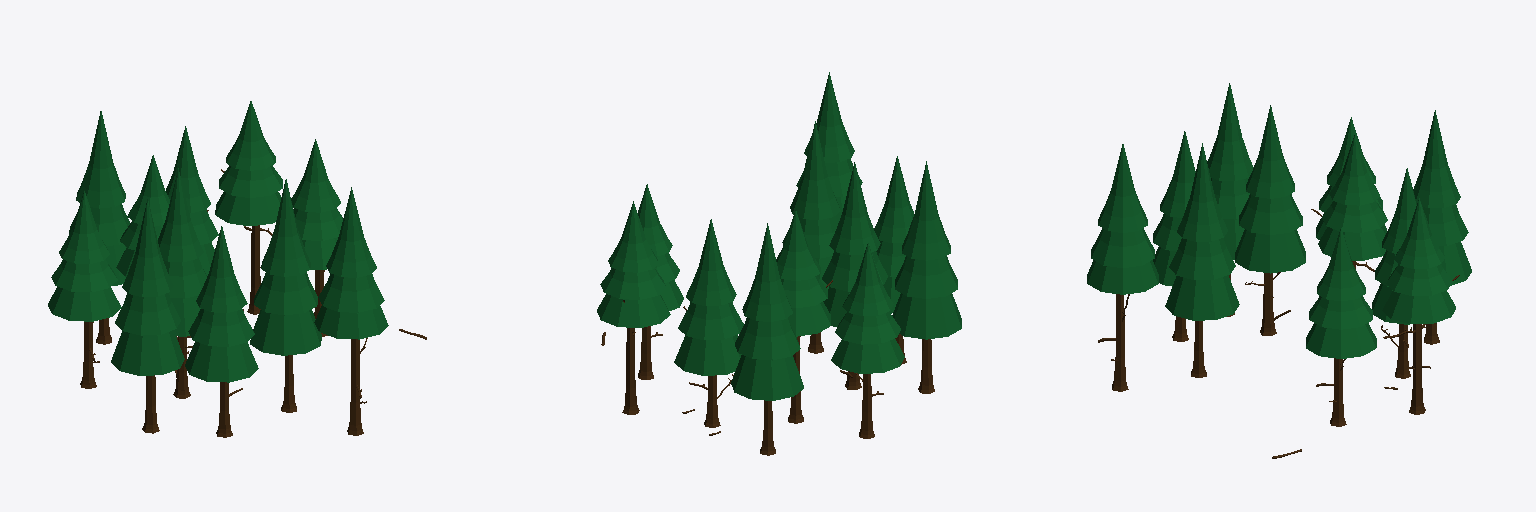
The model's file is PineTree.obj.
3 renders of one model, left to right at view 1: azimuth 30°, elevation 25°; view 2: azimuth 150°, elevation 25°; view 3: azimuth 270°, elevation 25°, orthographic.
Parts seen in each view (by area): view 1: polySurface130, polySurface119, polySurface132, polySurface121, polySurface100, polySurface104, polySurface128, polySurface118, polySurface106, polySurface120, polySurface131, polySurface127 (+24 smaller); view 2: polySurface98, polySurface130, polySurface132, polySurface100, polySurface121, polySurface118, polySurface147, polySurface99, polySurface131, polySurface145, polySurface152, polySurface146 (+22 smaller); view 3: polySurface119, polySurface116, polySurface121, polySurface132, polySurface100, polySurface118, polySurface128, polySurface120, polySurface117, polySurface127, polySurface112, polySurface137 (+22 smaller).
Part boxes in pixels (x1,y1,x2,y2): polySurface130: (111, 330, 184, 375); polySurface119: (250, 309, 321, 355); polySurface132: (122, 199, 173, 296); polySurface121: (261, 179, 310, 276); polySurface100: (76, 111, 125, 208); polySurface104: (185, 341, 258, 382); polySurface128: (326, 187, 376, 277); polySurface118: (158, 168, 203, 261); polySurface106: (196, 226, 247, 312); polySurface120: (254, 272, 317, 314); polySurface131: (115, 293, 180, 335); polySurface127: (318, 273, 384, 312); polySurface98: (731, 355, 803, 400); polySurface130: (892, 293, 961, 339); polySurface132: (902, 161, 950, 260); polySurface100: (742, 223, 792, 321); polySurface121: (790, 121, 840, 219); polySurface118: (829, 162, 880, 254); polySurface147: (686, 219, 736, 305); polySurface99: (735, 317, 800, 360); polySurface131: (895, 256, 957, 298); polySurface145: (674, 335, 741, 375); polySurface152: (831, 339, 904, 373); polySurface146: (678, 302, 743, 339); polySurface119: (1165, 275, 1239, 320); polySurface116: (1235, 229, 1305, 273); polySurface121: (1177, 143, 1227, 241); polySurface132: (1207, 83, 1253, 180); polySurface100: (1413, 110, 1460, 207); polySurface118: (1246, 105, 1294, 198); polySurface128: (1098, 144, 1147, 232); polySurface120: (1169, 238, 1235, 279); polySurface117: (1239, 194, 1302, 234); polySurface127: (1091, 228, 1154, 267); polySurface112: (1306, 323, 1376, 358); polySurface137: (1382, 290, 1455, 323).
Size of the model in its own units: 66.31 by 46.21 by 65.78.